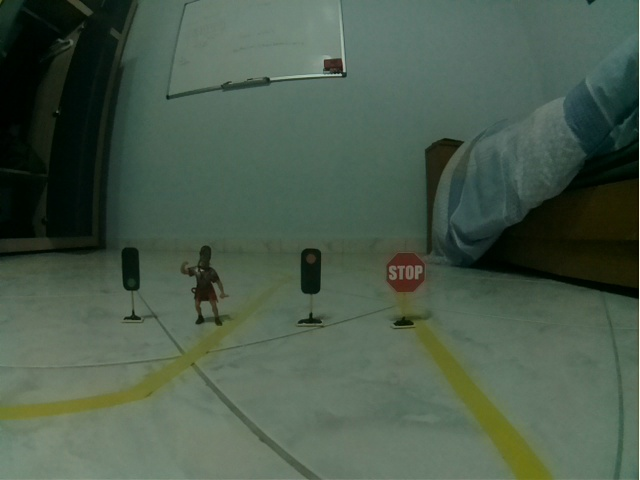Green Traffic Light: (119, 244, 141, 292)
Person: (180, 244, 230, 327)
Red Traffic Light: (299, 247, 322, 295)
Stop: (385, 251, 428, 294)
